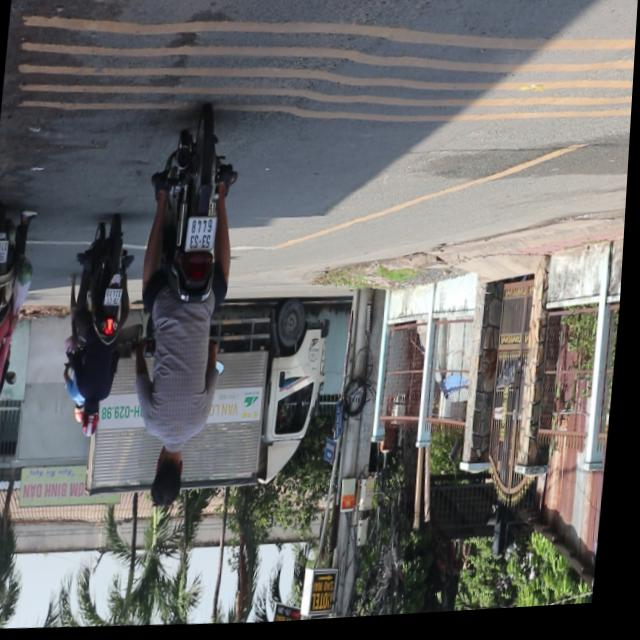helmet: (85, 404, 107, 441)
licenseplate: (122, 117, 252, 518), (63, 217, 143, 445), (0, 201, 43, 447)
motorcyclist: (154, 447, 193, 513)
nohelmet: (189, 221, 219, 255), (108, 290, 126, 309), (0, 240, 11, 264)
